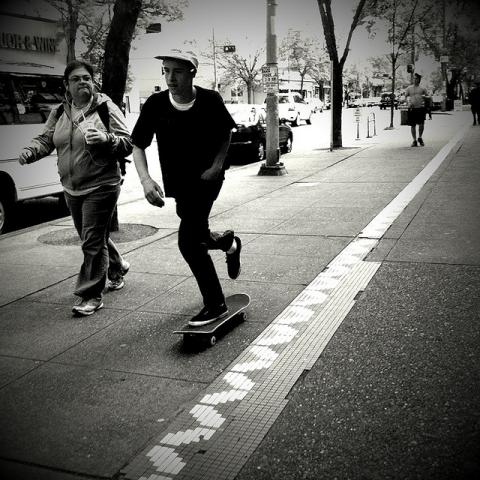bus: (0, 72, 64, 238)
car: (224, 103, 294, 160), (260, 91, 314, 125), (378, 93, 399, 110), (306, 98, 325, 114), (348, 100, 362, 108), (366, 101, 379, 108)
